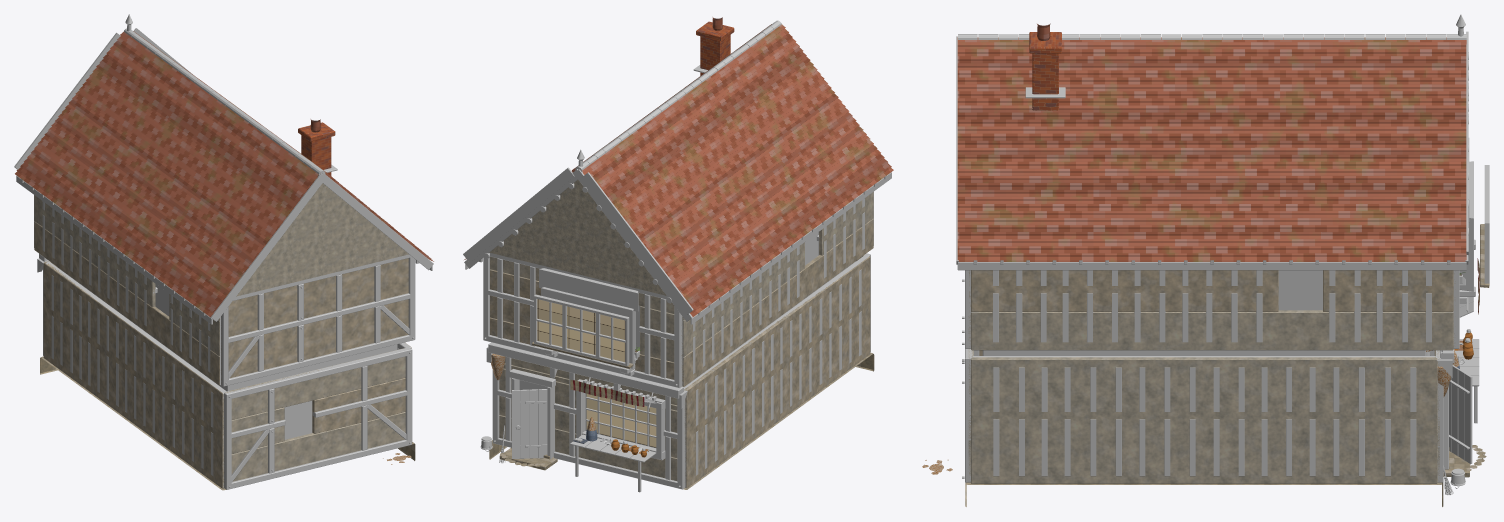
Rendered from confectioner.gltf.
3 views of the same model, side by side, from view 1: azimuth 30°, elevation 25°; view 2: azimuth 150°, elevation 25°; view 3: azimuth 270°, elevation 25° (orthographic). The views are drawn at different scales.
Visible parts, largest first — view 1: confectioner#0_n1, confectioner#n1_n1, confectioner#0_0; view 2: confectioner#0_n1, confectioner#n1_n1, confectioner#0_0; view 3: confectioner#0_n1, confectioner#n1_n1, confectioner#0_0.
Part boxes in pixels (x1,y1,x2,y2): confectioner#0_n1: [14, 14, 433, 489]; confectioner#n1_n1: [15, 31, 433, 317]; confectioner#0_0: [40, 122, 415, 490]; confectioner#0_n1: [463, 20, 891, 492]; confectioner#n1_n1: [464, 17, 893, 457]; confectioner#0_0: [489, 21, 874, 489]; confectioner#0_n1: [956, 14, 1489, 494]; confectioner#n1_n1: [957, 23, 1479, 364]; confectioner#0_0: [922, 32, 1462, 506].
Size of the model in its own units: 7.26 by 10.42 by 12.16.
